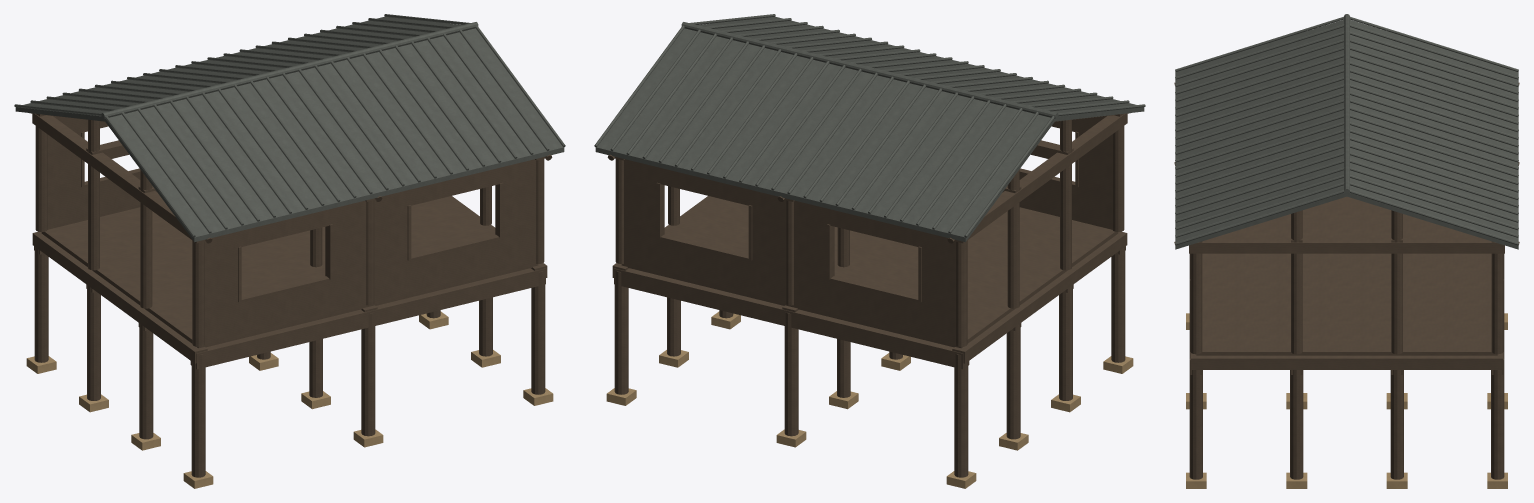
File: gallery-B-LOD0.glb
3 views of the same model, side by side, from view 1: azimuth 30°, elevation 25°; view 2: azimuth 150°, elevation 25°; view 3: azimuth 270°, elevation 25° (orthographic). The views are drawn at different scales.
Parts seen in each view (by area): view 1: gallery-B-static_timber, gallery-B-static_tile, gallery-B-static_earth; view 2: gallery-B-static_timber, gallery-B-static_tile, gallery-B-static_earth; view 3: gallery-B-static_tile, gallery-B-static_timber, gallery-B-static_earth.
Boxes of the visible parts, x1,y1,x2,y2 form: gallery-B-static_timber: [29, 113, 552, 477]; gallery-B-static_tile: [14, 14, 565, 242]; gallery-B-static_earth: [26, 311, 553, 488]; gallery-B-static_timber: [607, 113, 1130, 477]; gallery-B-static_tile: [594, 14, 1145, 242]; gallery-B-static_earth: [606, 311, 1133, 488]; gallery-B-static_tile: [1175, 14, 1518, 249]; gallery-B-static_timber: [1174, 82, 1519, 479]; gallery-B-static_earth: [1186, 313, 1507, 488].
Bounding box in the file's own units: 9.9 × 8 × 8.25.
Materials: 3 (3 with a texture image).
